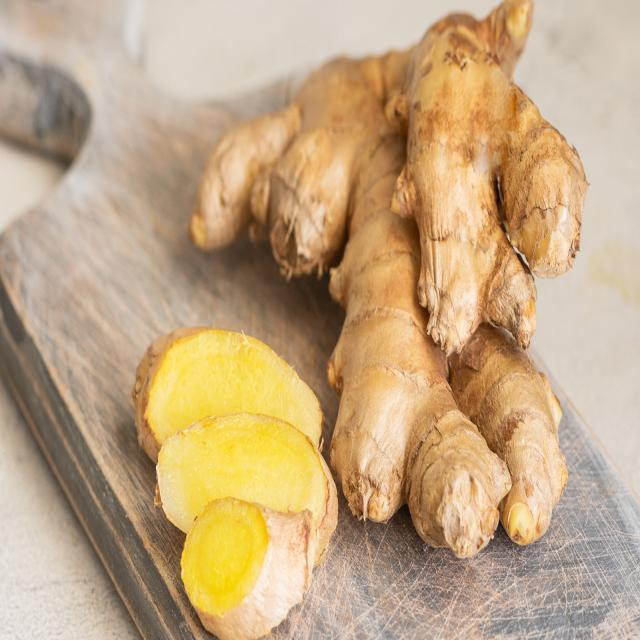ginger: (335, 34, 587, 568), (147, 337, 327, 613)
